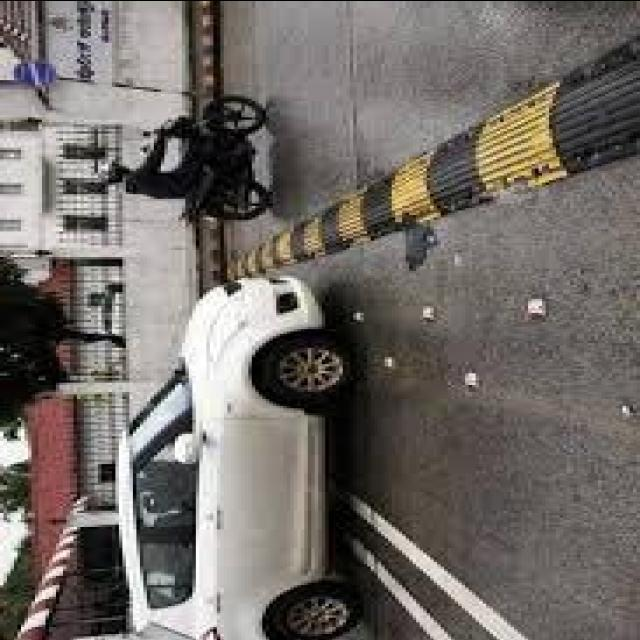speedbreaker: (217, 7, 640, 286)
